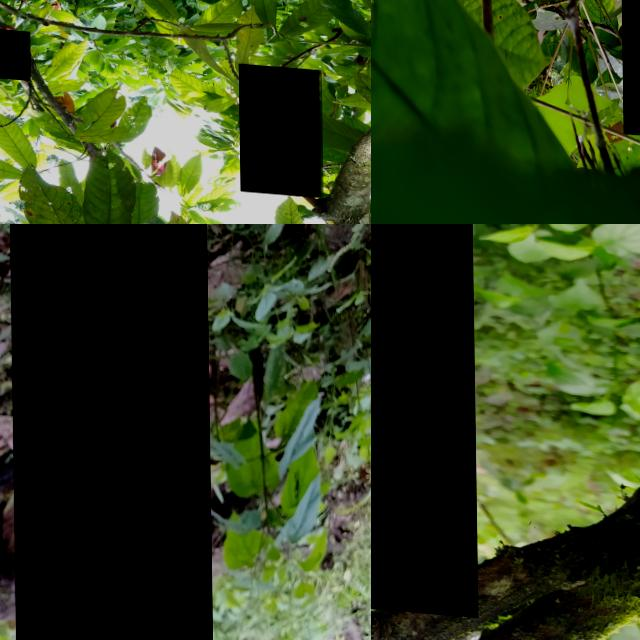Fitoftora: (371, 224, 476, 609), (238, 59, 322, 191)
Sana: (9, 224, 212, 640), (0, 28, 29, 79)
